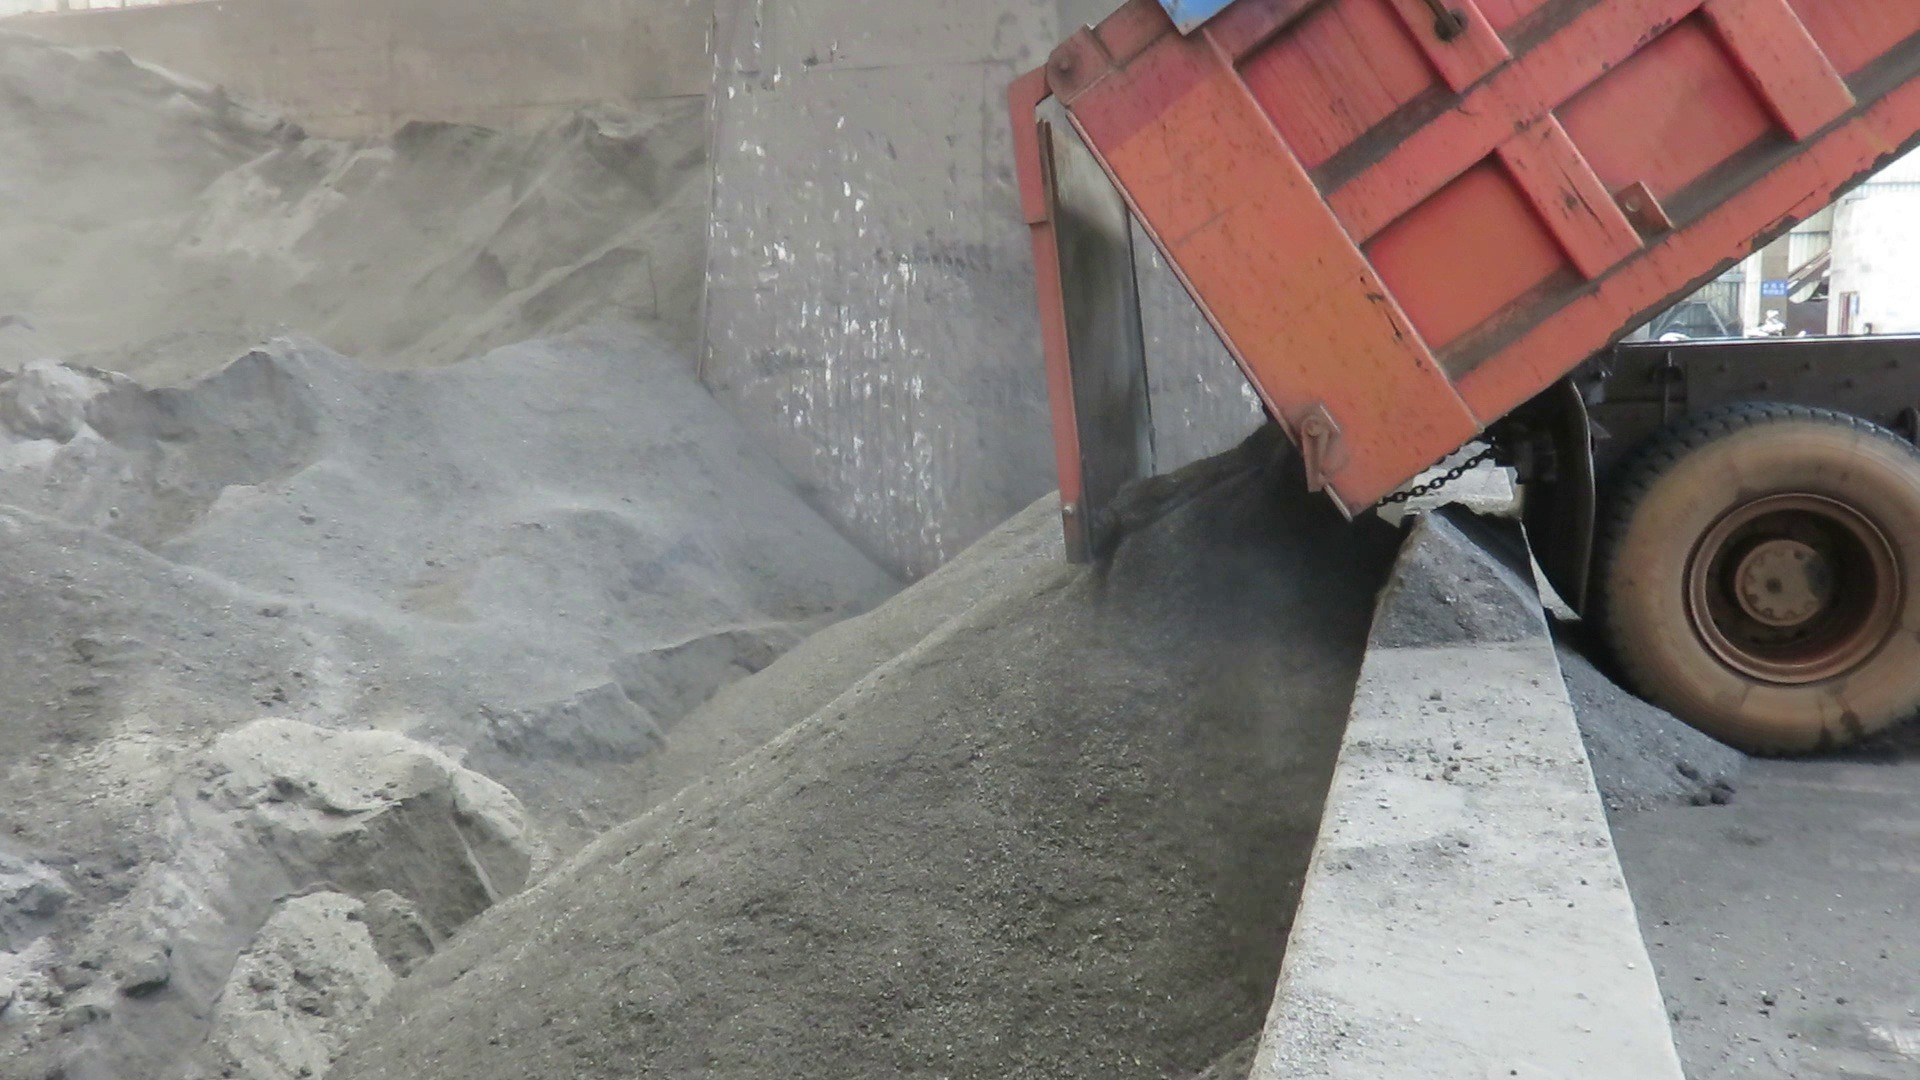dust: (5, 32, 1007, 731)
truck: (988, 0, 1920, 771)
